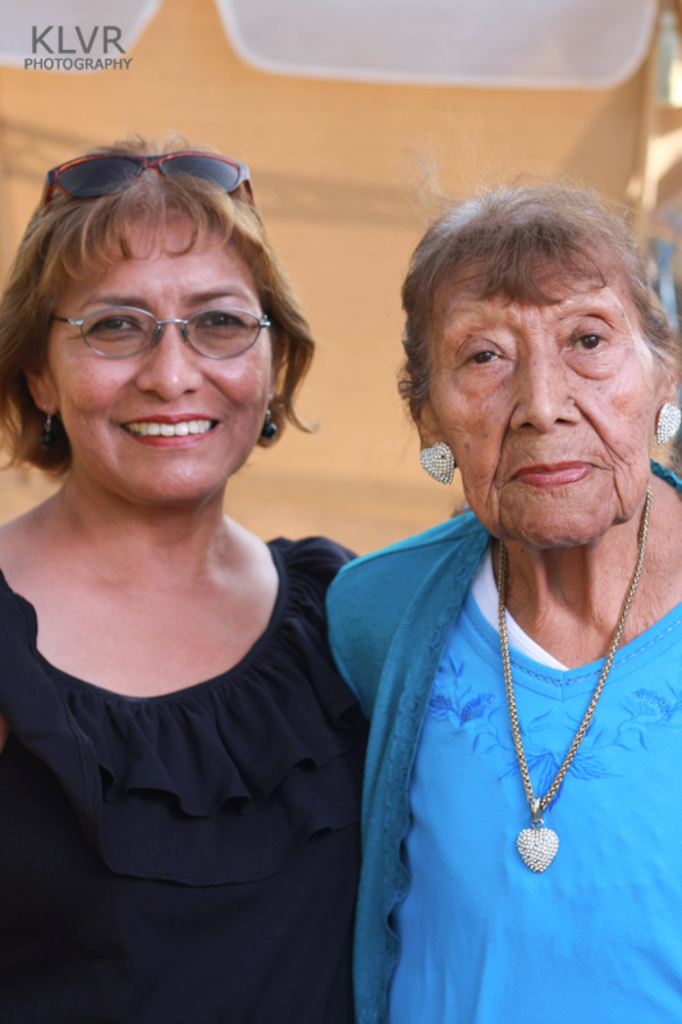Human-face: (404, 253, 660, 540), (37, 206, 273, 506)
